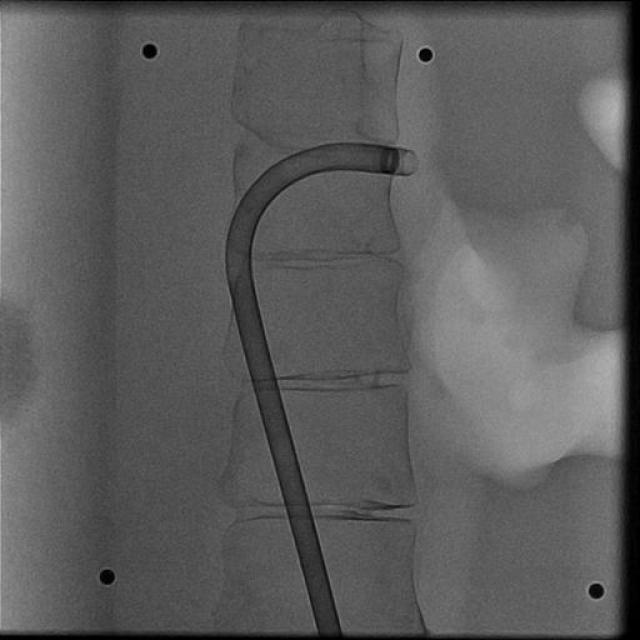bend: (225, 262, 252, 282)
entry: (320, 632, 341, 636)
marker: (379, 146, 399, 175)
tip: (399, 149, 418, 177)
